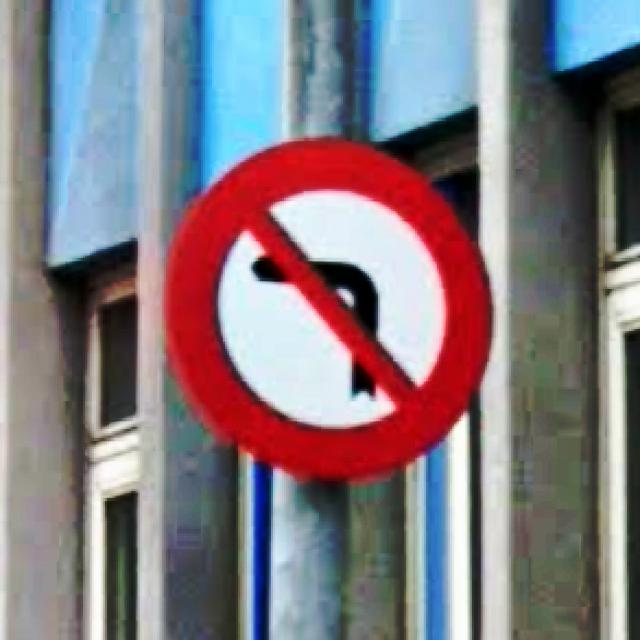noturnleft: (159, 131, 496, 482)
